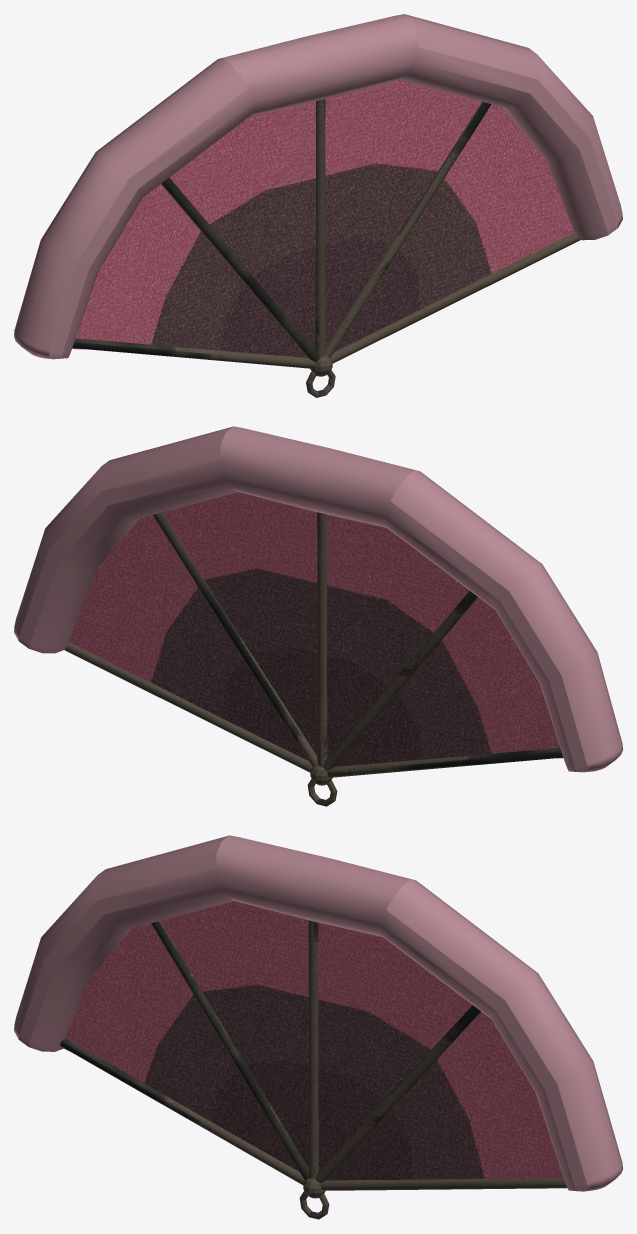
The model's file is Fan.fbx.
3 renders of one model, top to bottom at view 1: azimuth 30°, elevation 25°; view 2: azimuth 150°, elevation 25°; view 3: azimuth 330°, elevation 25°, orthographic.
Visible parts, largest first — view 1: pSphere6; view 2: pSphere6; view 3: pSphere6.
Part boxes in pixels (left/top/right/bottom): pSphere6: left=14, top=14, right=622, bottom=397; pSphere6: left=14, top=426, right=622, bottom=806; pSphere6: left=14, top=835, right=622, bottom=1219.
Bounding box in the file's own units: 0.4738 × 0.2703 × 0.046.
